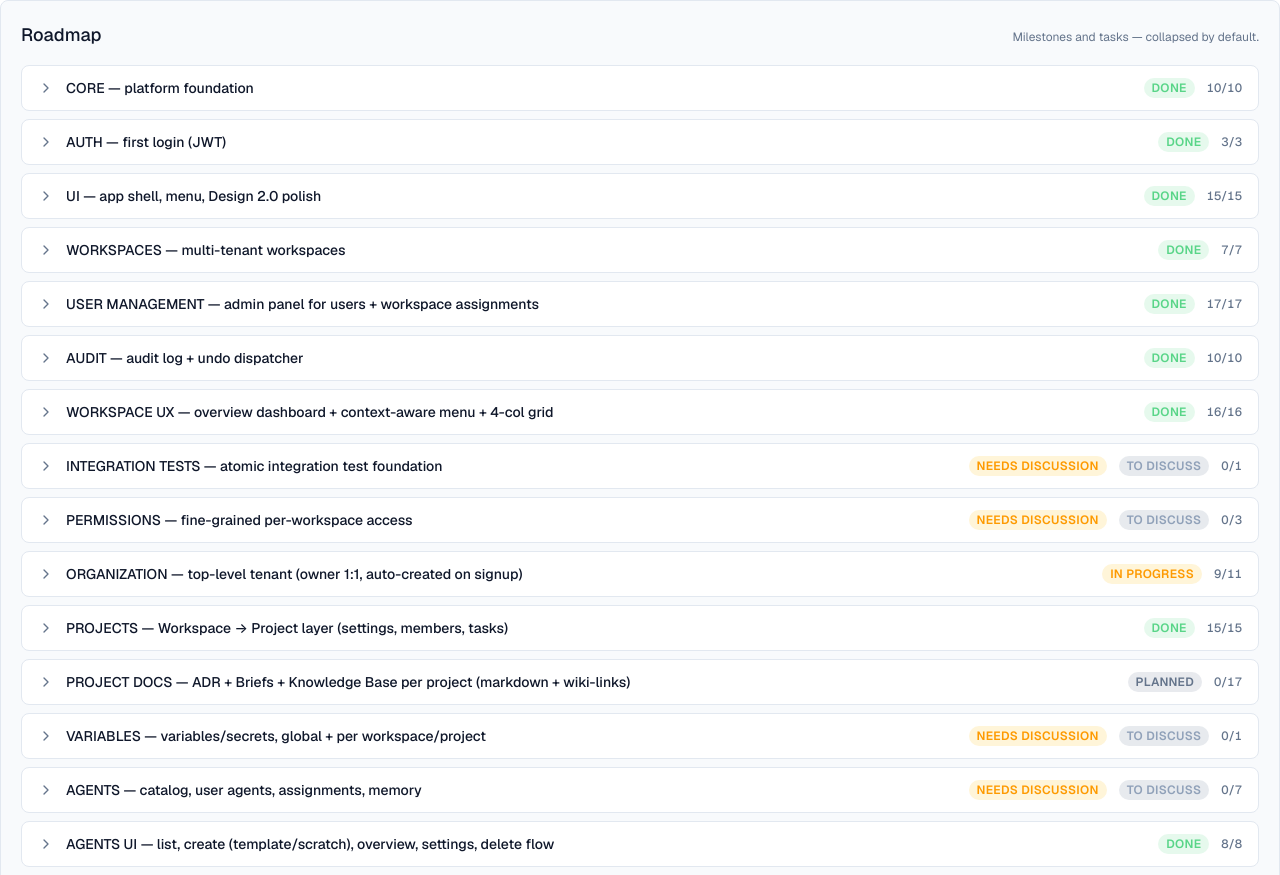
Test: RoadmapPanel › should render the PERMISSIONS milestone as planned with its BL-PERM tasks and no commit links
Click the text "PERMISSIONS — fine-grained per-workspace access" at (239, 520), box x1=66 y1=511 x2=413 y2=529
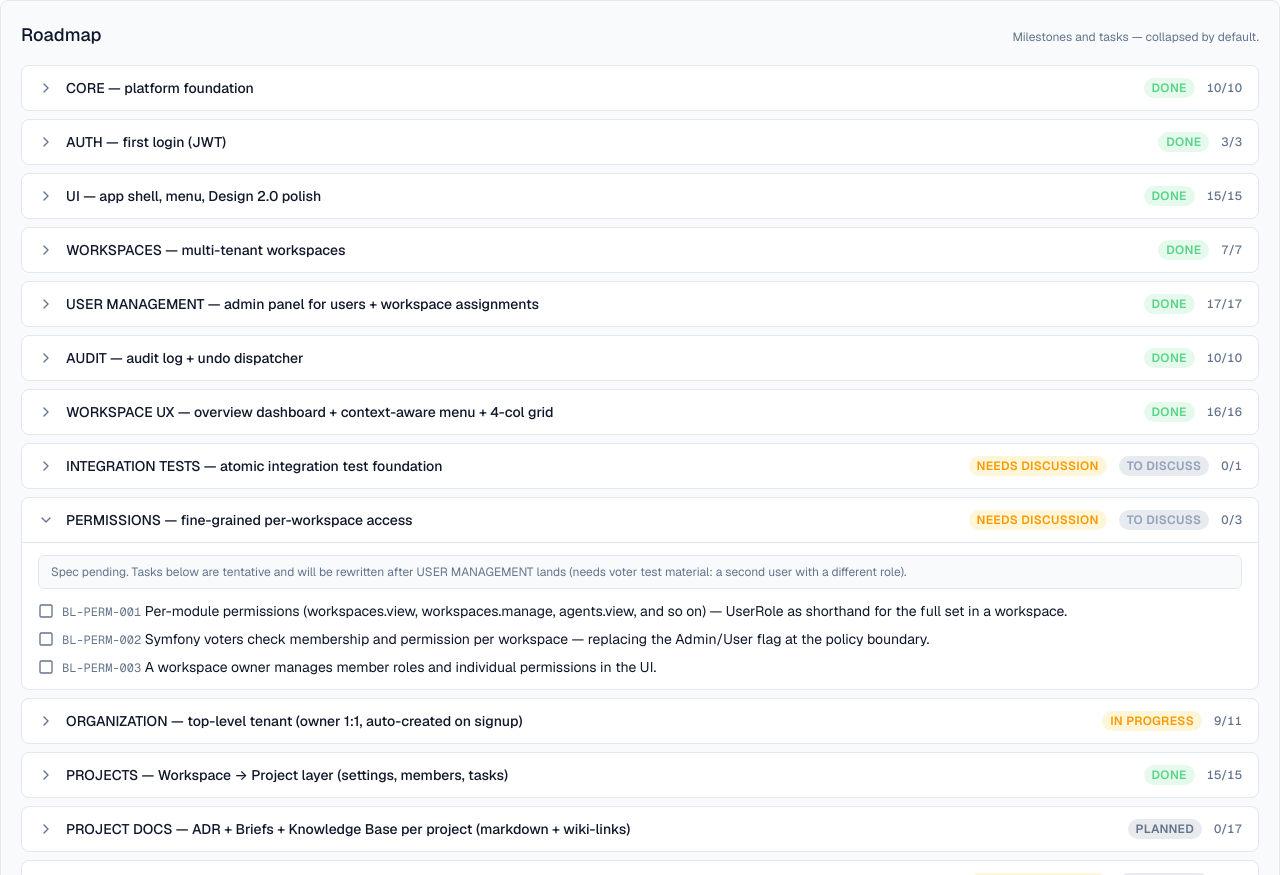
Result: the text "BL-PERM-001" is shown at x1=62 y1=604 x2=141 y2=620
Result: the text "BL-PERM-002" is shown at x1=62 y1=632 x2=141 y2=648
Result: the text "BL-PERM-003" is shown at x1=62 y1=660 x2=141 y2=676
